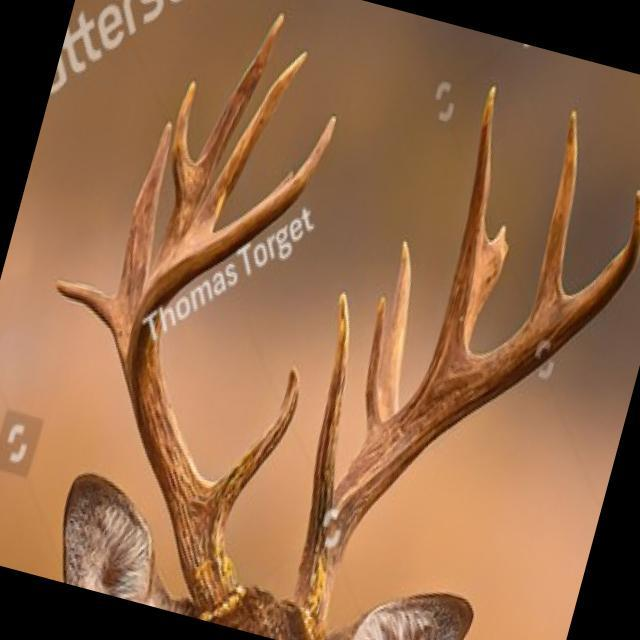E1: (464, 225, 508, 346)
L-F: (286, 187, 640, 634)
L-G1: (306, 288, 350, 528)
L-G2: (363, 294, 387, 442)
L-G4: (425, 83, 497, 374)
L-G5: (531, 107, 579, 310)
R-F: (124, 114, 338, 620)
R-G1: (207, 362, 301, 530)
R-G4: (180, 51, 308, 243)
